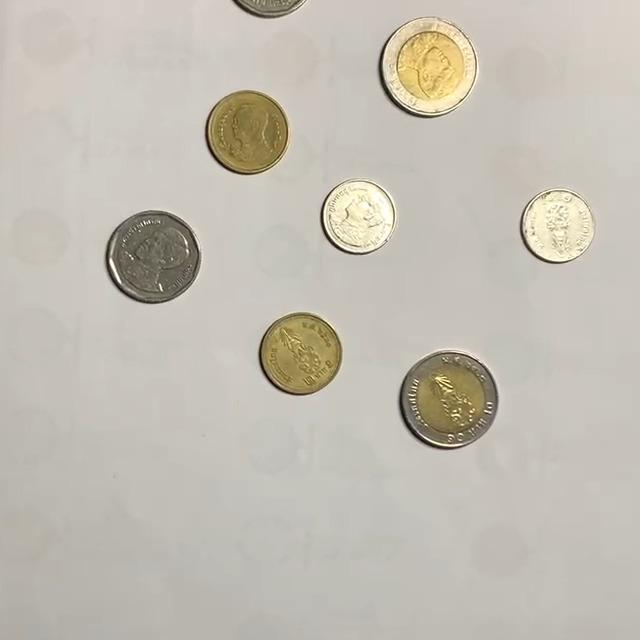1-baht: (521, 187, 598, 263), (321, 179, 398, 255)
10-baht: (381, 17, 480, 117), (400, 351, 500, 448)
2-baht: (206, 90, 290, 175), (260, 312, 344, 394)
5-baht: (106, 209, 202, 303)
